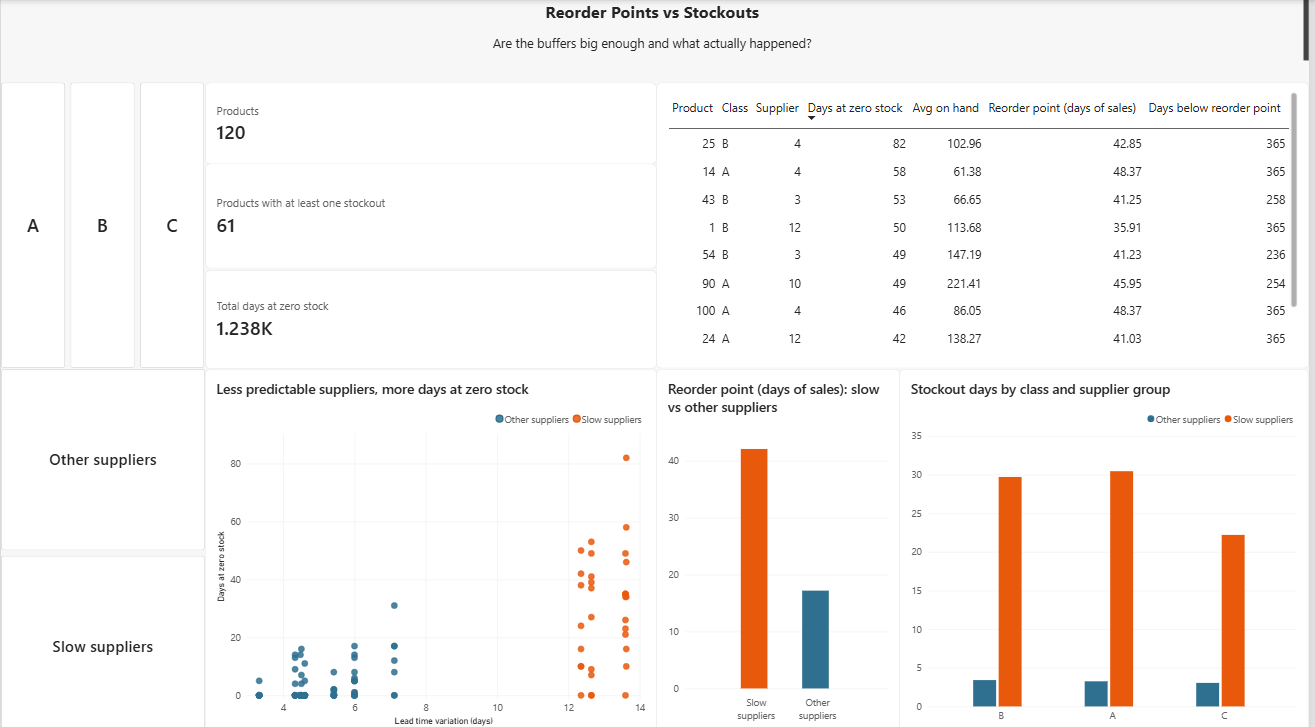

The dashboard page shown, as its layout file describes it:
{"tool":"powerbi","page":{"name":"Stock & Reorder","canvas":[1920,1080],"ordinal":2},"visuals":[{"type":"cardVisual","fields":{"Data":["CountNonNull(abc_classes.product_id)"]},"box":[299.8,120.4,663.2,120.4],"z":0},{"type":"cardVisual","fields":{"Data":["CountNonNull(reorder_vs_stock.product_id)"]},"box":[299.8,240.8,663.2,154.4],"z":1000},{"type":"cardVisual","fields":{"Data":["Sum(reorder_vs_stock.stockout_days)"]},"box":[299.8,395.2,663.2,145.4],"z":2000},{"type":"scatterChart","title":"Less predictable suppliers, more days at zero stock","fields":{"Category":["abc_classes.product_id"],"Series":["reorder_vs_stock.Supplier group"],"X":["Avg(reorder_vs_stock.lead_sd)"],"Y":["Avg(reorder_vs_stock.stockout_days)"]},"box":[299.8,540.6,663.2,540.6],"z":3000},{"type":"clusteredColumnChart","title":"Reorder point (days of sales): slow vs other suppliers","fields":{"Category":["reorder_vs_stock.Supplier group"],"Y":["Avg(reorder_vs_stock.reorder_point_days_of_sales)"]},"box":[961.9,540.5,357.1,538.1],"z":4000},{"type":"clusteredColumnChart","title":"Stockout days by class and supplier group","fields":{"Category":["reorder_vs_stock.abc_class"],"Series":["reorder_vs_stock.Supplier group"],"Y":["Avg(reorder_vs_stock.stockout_days)"]},"box":[1319,540.5,600,540.5],"z":5000},{"type":"tableEx","fields":{"Values":["abc_classes.product_id","reorder_vs_stock.abc_class","reorder_vs_stock.primary_supplier","reorder_vs_stock.stockout_days","reorder_vs_stock.avg_on_hand","reorder_vs_stock.reorder_point_days_of_sales","reorder_vs_stock.days_stock_plus_on_order_below_reorder"]},"box":[961.9,121.4,957.1,419],"z":6000},{"type":"advancedSlicerVisual","fields":{"Values":["reorder_vs_stock.abc_class"]},"box":[0,121.4,300,419],"z":7000},{"type":"advancedSlicerVisual","fields":{"Values":["reorder_vs_stock.Supplier group"]},"box":[0,540.6,299.8,540.6],"z":8000},{"type":"textbox","box":[0,0,1919,100],"z":9000}]}

Visuals, with their boxes in screenshot pixels (x1, y1, x2, y2), scaled from the page's 1920x1080 canvas onto the 1315x727 screenshot:
cardVisual - CountNonNull(abc_classes.product_id): pyautogui.locateOnScreen(205, 81, 660, 162)
cardVisual - CountNonNull(reorder_vs_stock.product_id): pyautogui.locateOnScreen(205, 162, 660, 266)
cardVisual - Sum(reorder_vs_stock.stockout_days): pyautogui.locateOnScreen(205, 266, 660, 364)
"Less predictable suppliers, more days at zero stock" scatterChart: pyautogui.locateOnScreen(205, 364, 660, 726)
"Reorder point (days of sales): slow vs other suppliers" clusteredColumnChart: pyautogui.locateOnScreen(659, 364, 903, 726)
"Stockout days by class and supplier group" clusteredColumnChart: pyautogui.locateOnScreen(903, 364, 1314, 726)
tableEx - abc_classes.product_id x reorder_vs_stock.abc_class: pyautogui.locateOnScreen(659, 82, 1314, 364)
advancedSlicerVisual - reorder_vs_stock.abc_class: pyautogui.locateOnScreen(0, 82, 205, 364)
advancedSlicerVisual - reorder_vs_stock.Supplier group: pyautogui.locateOnScreen(0, 364, 205, 726)
textbox: pyautogui.locateOnScreen(0, 0, 1314, 67)
